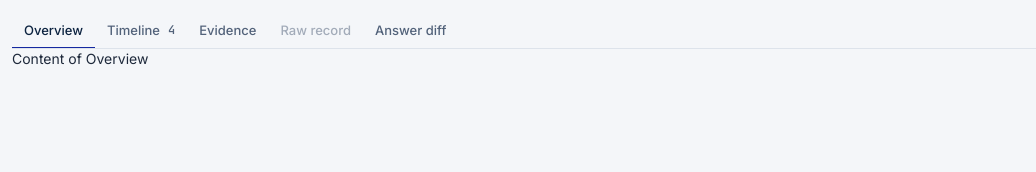
it: Tabs: keyboard › selects on click, and shows that tab's panel
Click the tab "Evidence": (228, 30) left=187, top=12, right=268, bottom=48
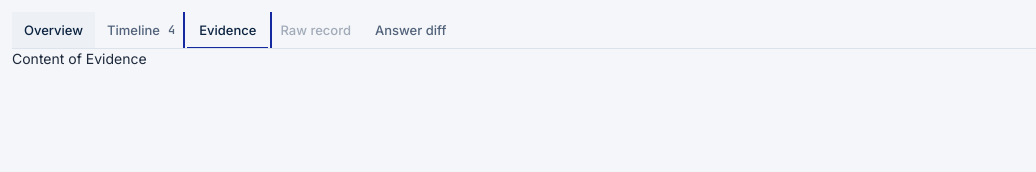
Now the text "Content of Evidence" is shown, box left=12, top=50, right=147, bottom=67
Now the text "Content of Overview" is gone
